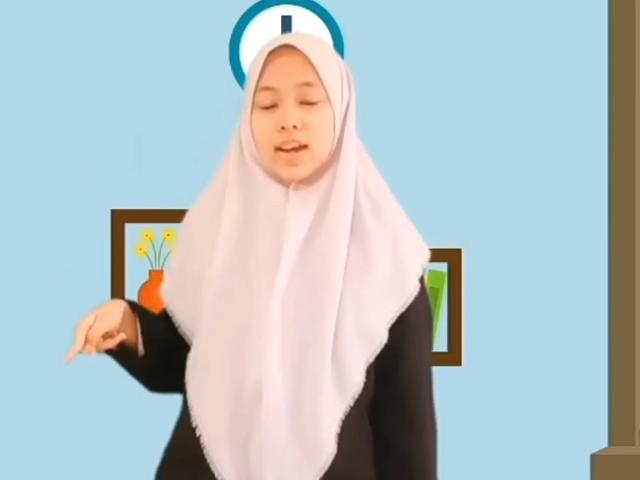P: (60, 297, 132, 363)
